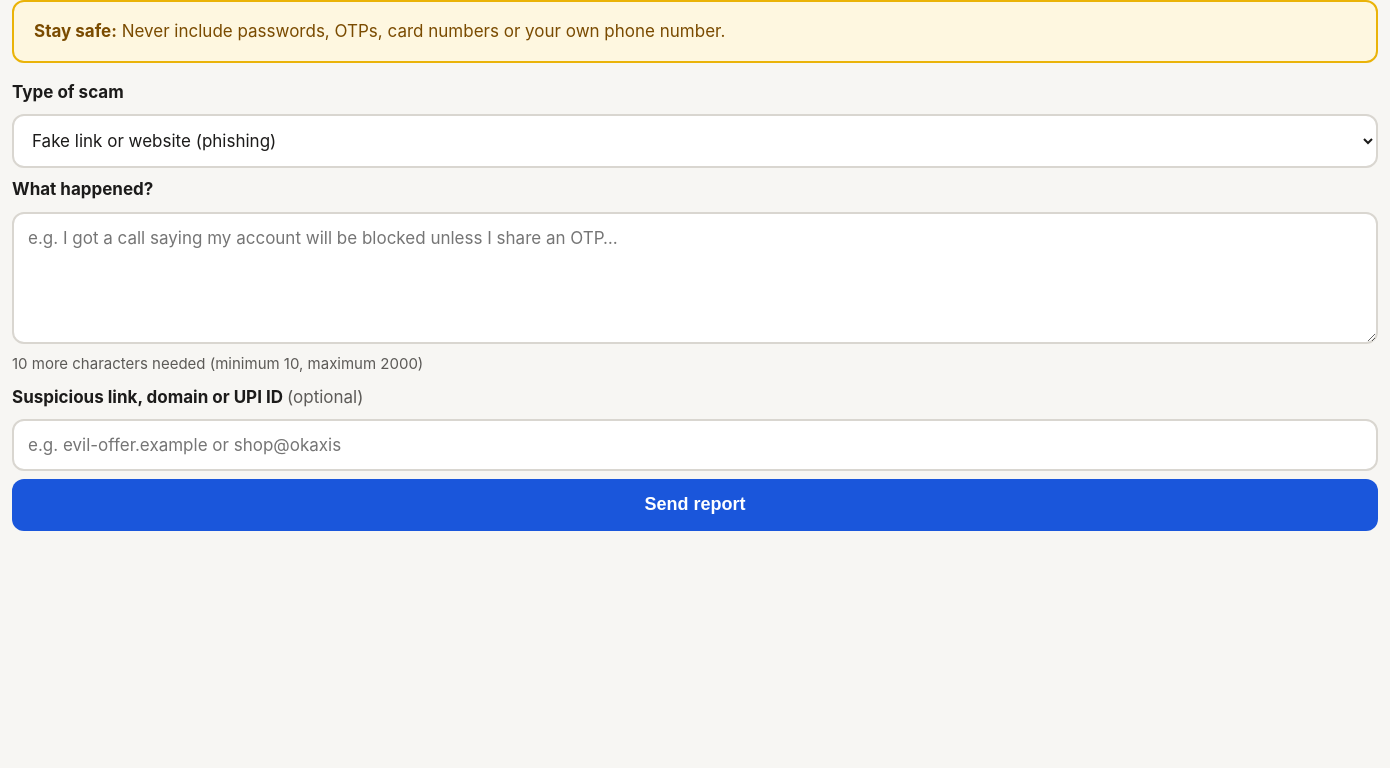
ReportForm validation › maps 422 to the friendly target message
Replace the text in the text box labelled "What happened?" with "Someone called pretending to be the bank manager today.". click: (695, 278)
box: [12,212,1378,344]
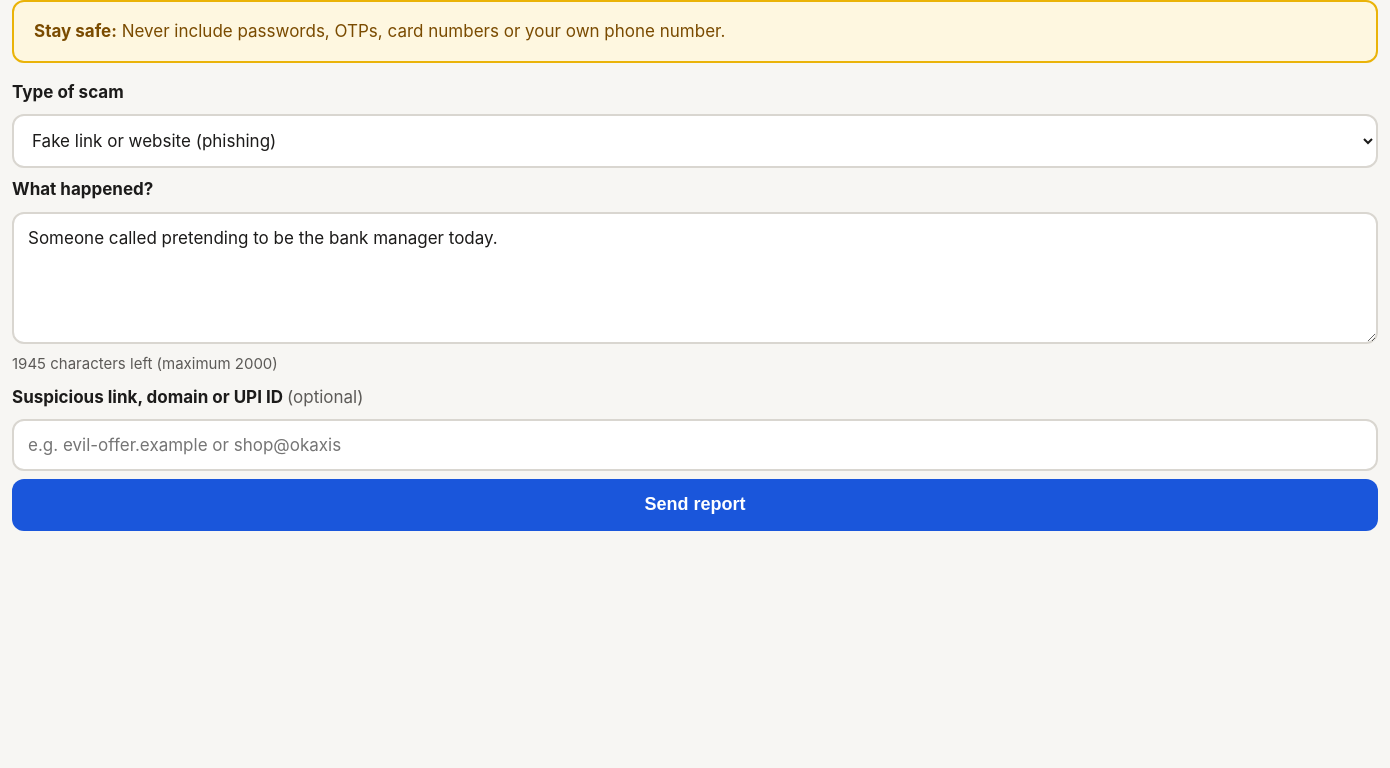
Click the button "Send report". click: (695, 505)
box: [12,479,1378,531]
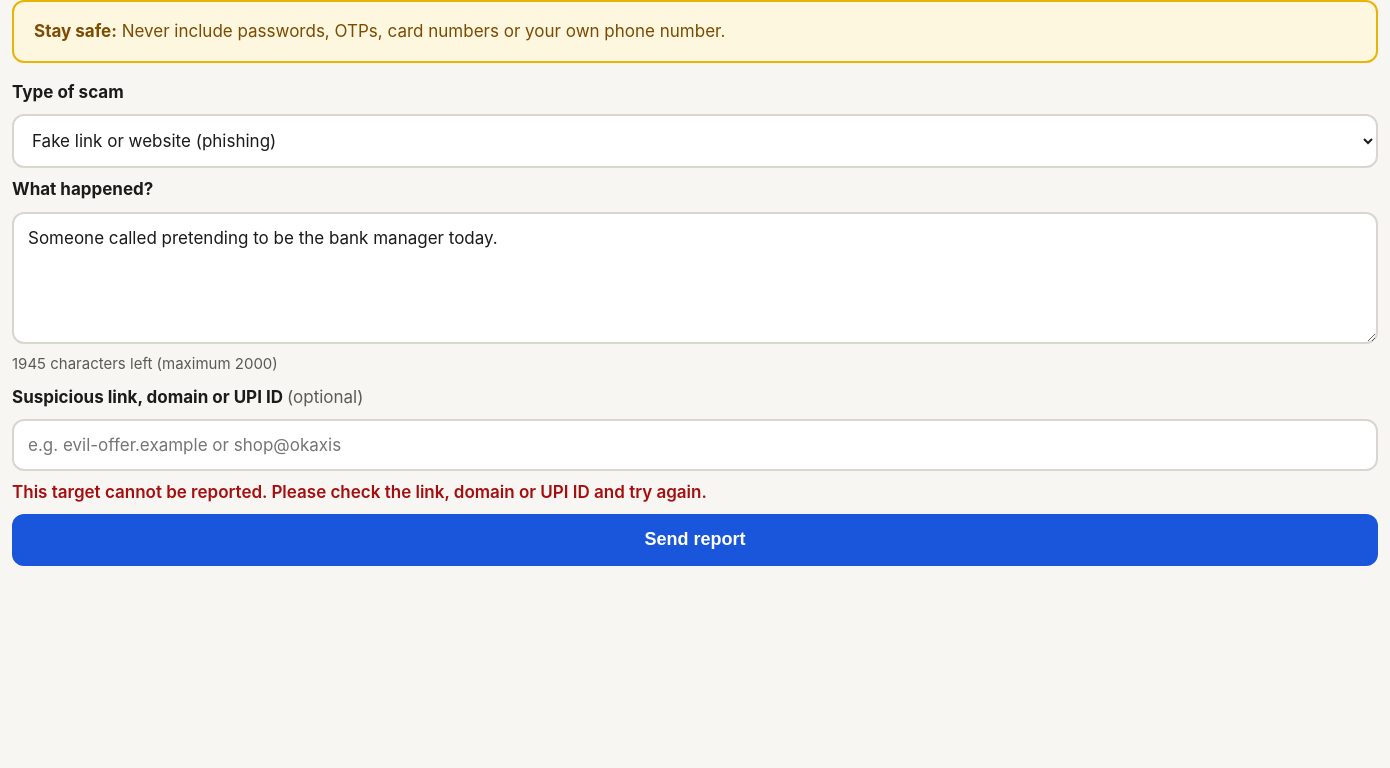
Now the message shows "This target cannot be reported", box [12,482,707,502]
